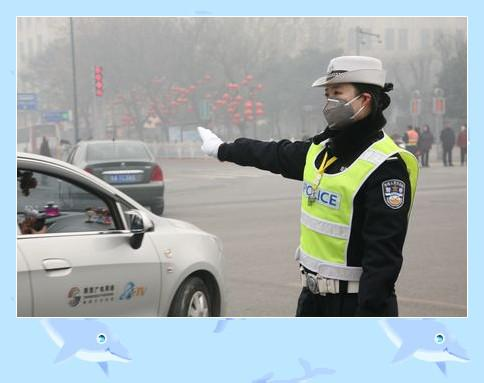OK: (320, 82, 368, 130)
